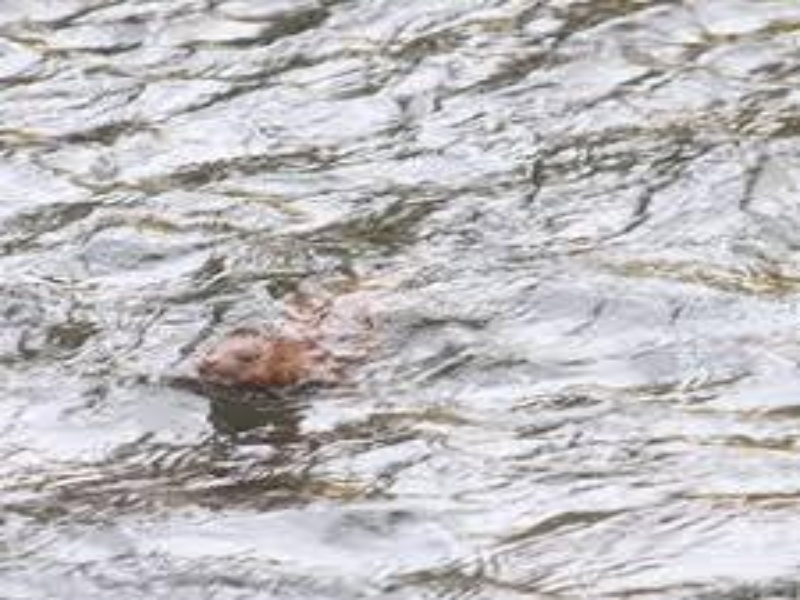minkish: (199, 272, 373, 393)
